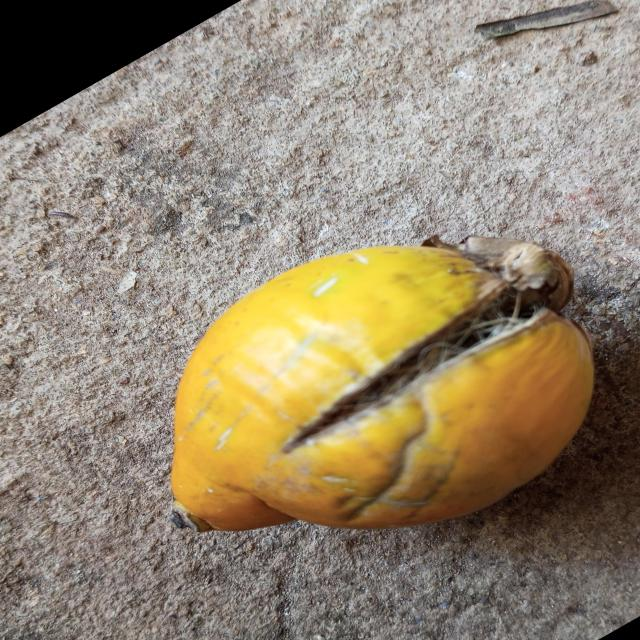damaged: (171, 236, 593, 532)
